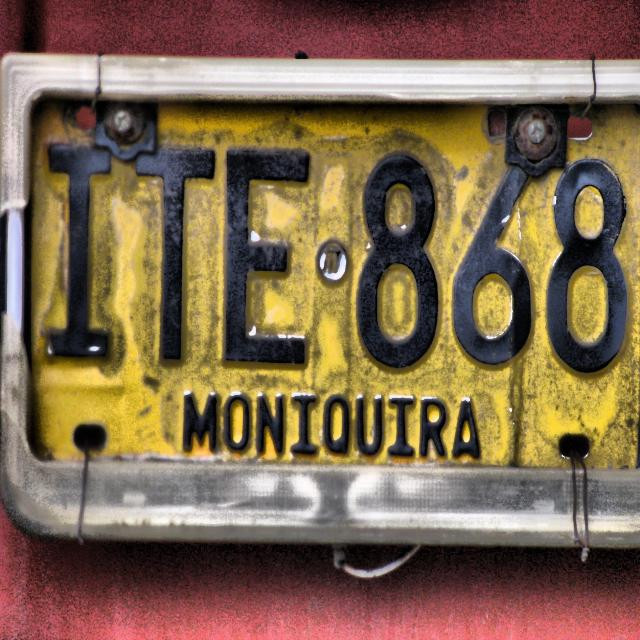plate: (35, 95, 639, 475)
